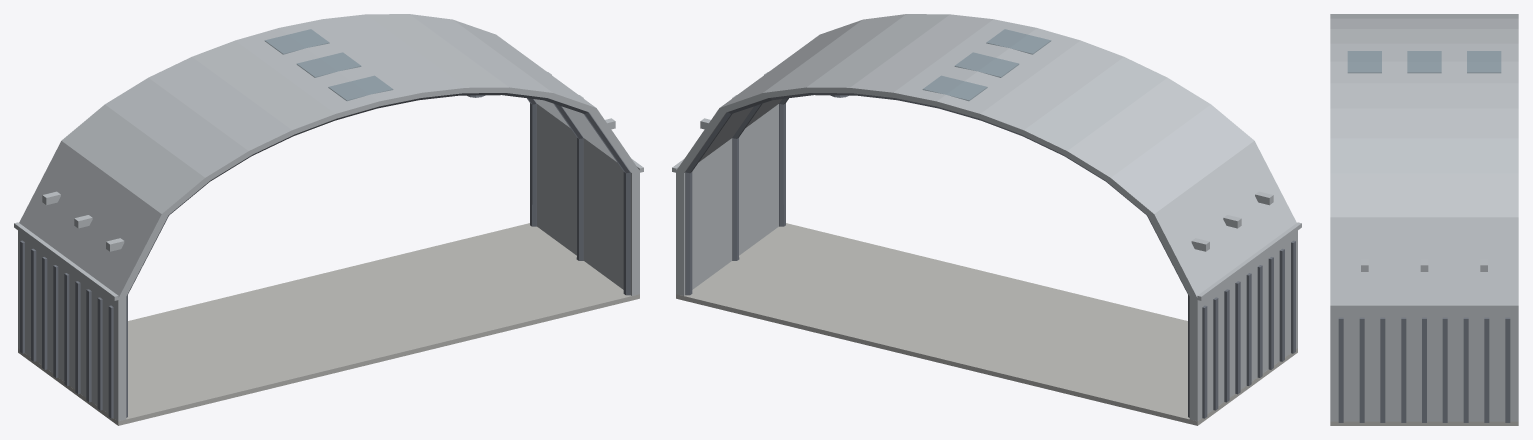
The model's file is ufo-crash-site-and-recovery-facility-hangar-bay-shell--2eff358e__17355.glb.
3 renders of one model, left to right at view 1: azimuth 30°, elevation 25°; view 2: azimuth 150°, elevation 25°; view 3: azimuth 270°, elevation 25°, orthographic. The views are drawn at different scales.
Parts seen in each view (by area): view 1: hangar-bay-shell-section; view 2: hangar-bay-shell-section; view 3: hangar-bay-shell-section.
Part boxes in pixels (x1,y1,x2,y2): hangar-bay-shell-section: [14, 14, 643, 425]; hangar-bay-shell-section: [672, 14, 1301, 425]; hangar-bay-shell-section: [1330, 14, 1518, 425].
Size of the model in its own units: 18.26 by 8.6 by 6.
